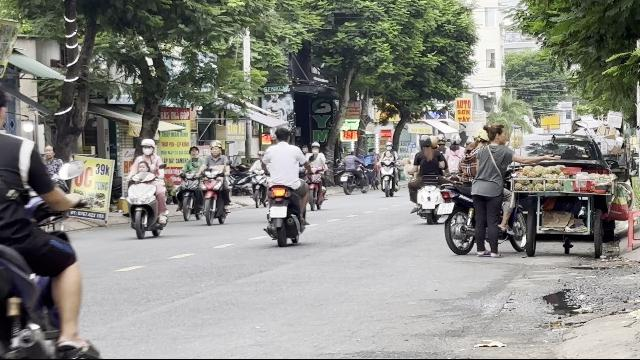helmet: (140, 137, 156, 155), (209, 139, 223, 155)
licenseplate: (438, 202, 454, 214), (270, 207, 286, 218)
motorcyclist: (260, 122, 310, 246), (123, 138, 169, 239), (199, 139, 233, 224)
nohelmet: (272, 123, 292, 143), (137, 161, 151, 175)
